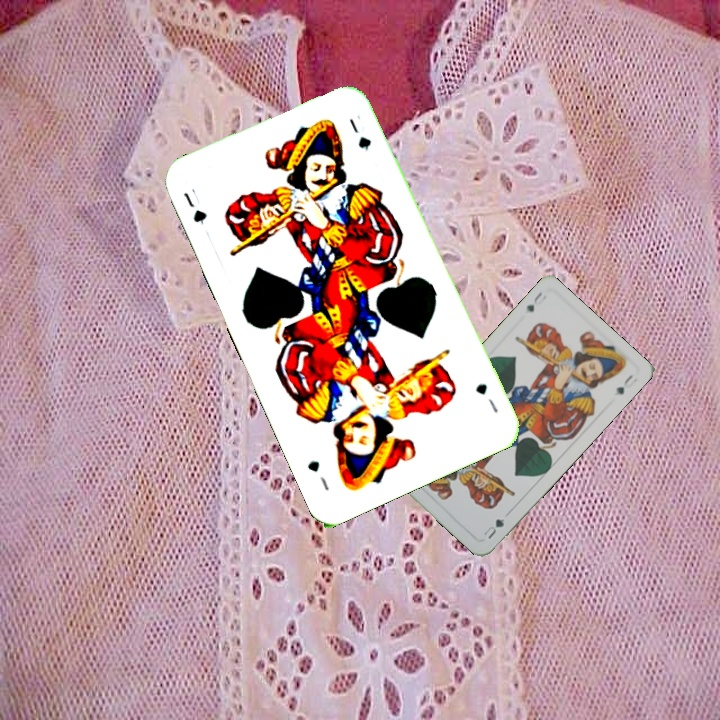GU: (179, 184, 210, 227), (471, 379, 501, 416), (479, 514, 507, 542), (522, 287, 547, 315)
